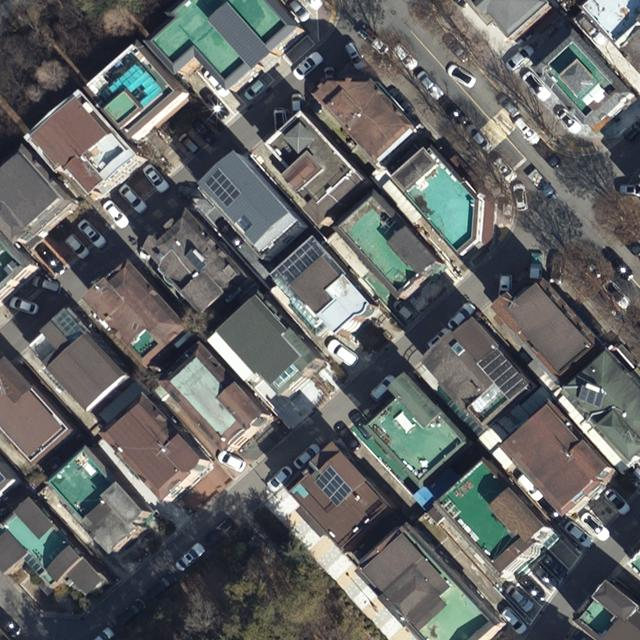panel: (314, 465, 354, 507), (204, 168, 242, 209)
